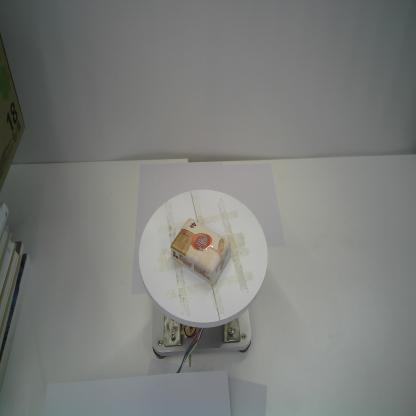Tissue: (170, 218, 231, 285)
